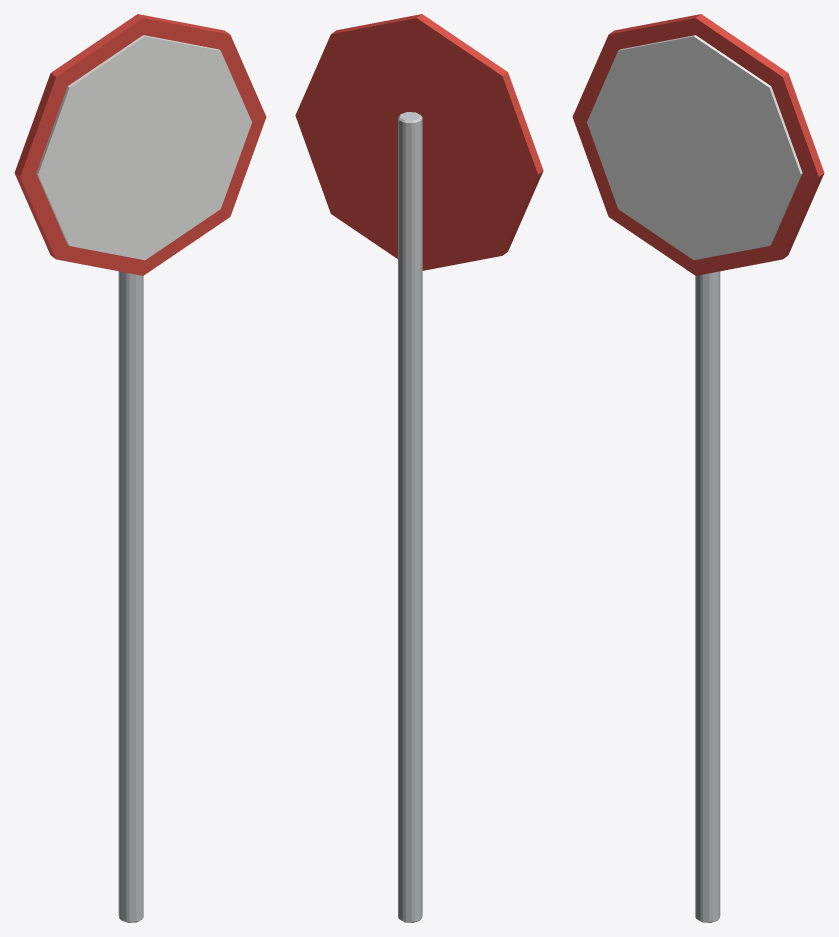
Rendered from stop_sign.glb.
3 renders of one model, left to right at view 1: azimuth 30°, elevation 25°; view 2: azimuth 150°, elevation 25°; view 3: azimuth 330°, elevation 25°, orthographic.
Visible parts, largest first — view 1: stop_sign; view 2: stop_sign; view 3: stop_sign.
Part boxes in pixels (<box>): stop_sign: <box>14,14,266,922</box>; stop_sign: <box>295,14,543,922</box>; stop_sign: <box>572,14,824,922</box>.
Size of the model in its own units: 0.76 by 2.68 by 0.1081.
